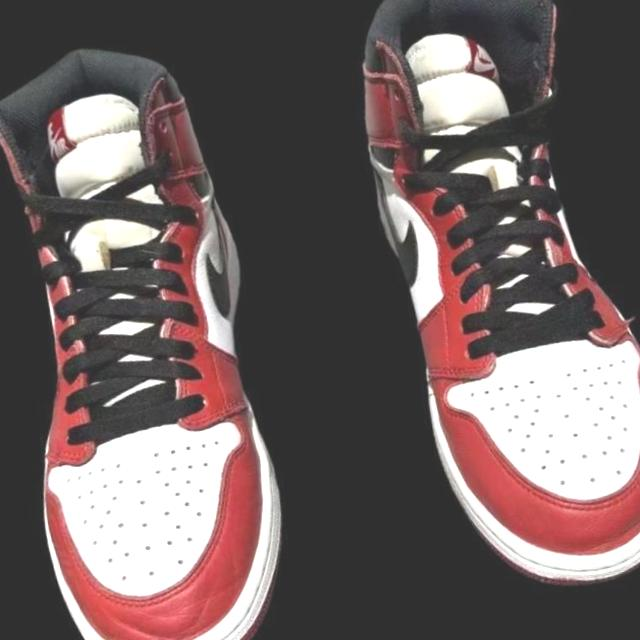nike_original_jordan: (0, 14, 333, 640), (321, 0, 640, 621)
